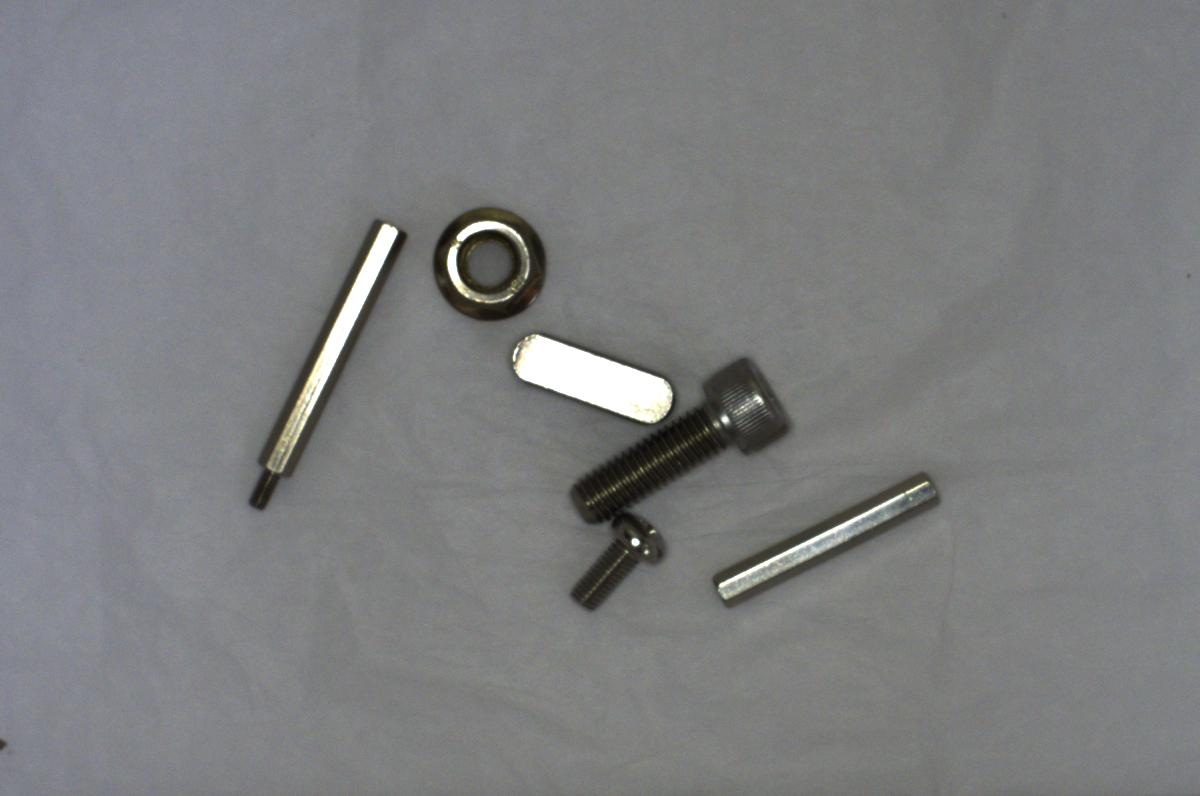Double hexagonal column: (710, 467, 946, 608)
Flange nut: (426, 206, 553, 327)
Hexagon screw: (561, 353, 806, 521)
Hexagonal steel column: (243, 205, 403, 510)
Keybar: (507, 331, 676, 427)
Round head screw: (561, 515, 673, 613)
